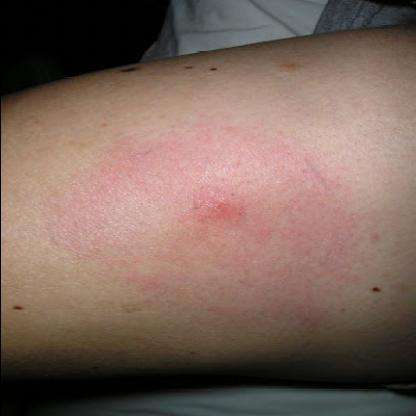Wasp: (181, 176, 252, 236)
